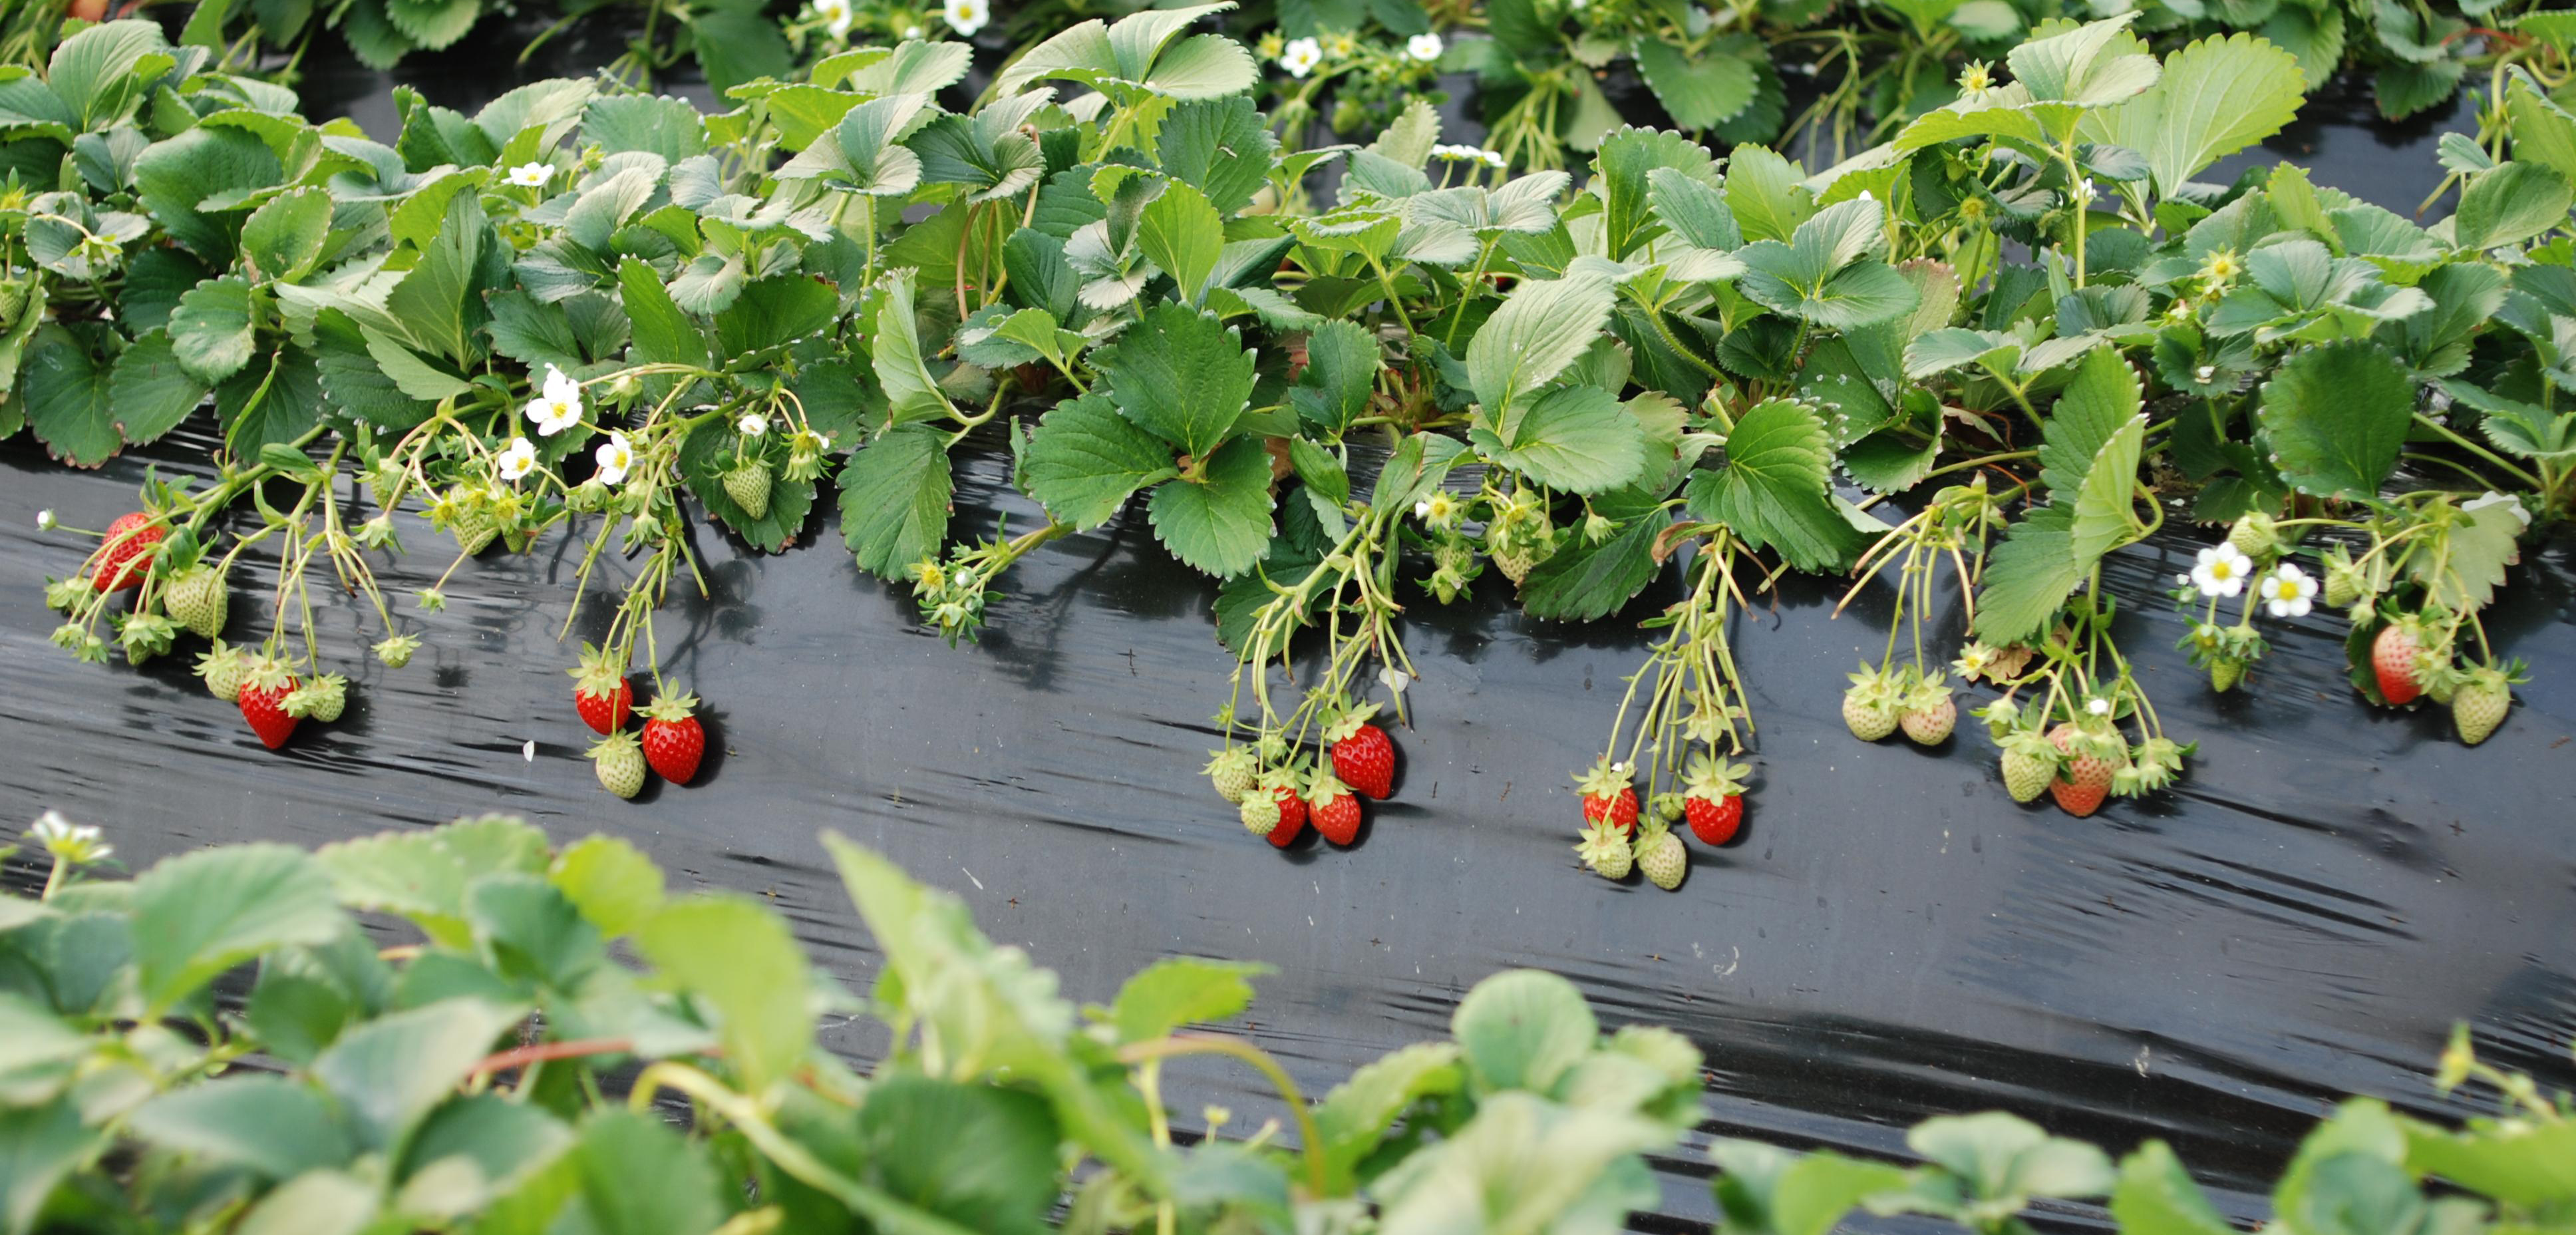ripe_strawberry: (92, 509, 171, 596), (232, 668, 306, 752), (1327, 721, 1401, 803), (2372, 617, 2435, 711), (641, 705, 711, 787), (1303, 782, 1367, 849), (1684, 782, 1746, 849), (1580, 775, 1643, 839), (573, 672, 634, 737), (1267, 769, 1306, 851)
unripe_strawberry: (2044, 719, 2129, 821), (161, 565, 235, 642), (2451, 667, 2514, 751), (448, 478, 513, 558), (1994, 729, 2062, 805), (1838, 677, 1902, 749), (595, 731, 647, 803), (1487, 521, 1544, 586), (1897, 688, 1957, 751), (1636, 829, 1690, 897), (720, 460, 777, 522), (199, 650, 255, 700), (1211, 751, 1262, 803), (1235, 792, 1283, 842), (1587, 831, 1633, 884), (306, 678, 348, 726), (2206, 649, 2244, 700)
